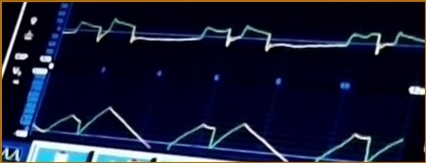Double_Triggering Flow: (65, 8, 426, 63)
Double_Triggering Volume: (43, 95, 403, 163)
